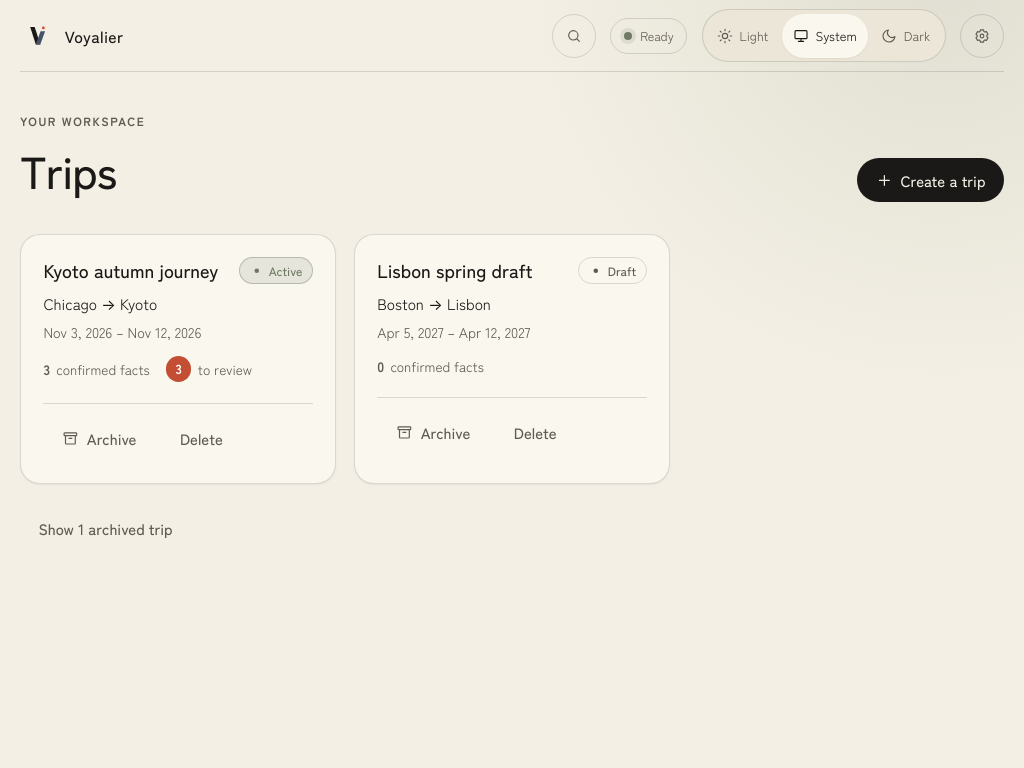
Test: concierge save recovery › retains a rejected Item draft and clears it only after a successful retry
The image size is (1024, 768).
Click the button with aria-label "Open Kyoto autumn journey".
click(131, 270)  # box [43,257,218,283]
(page scrolled)
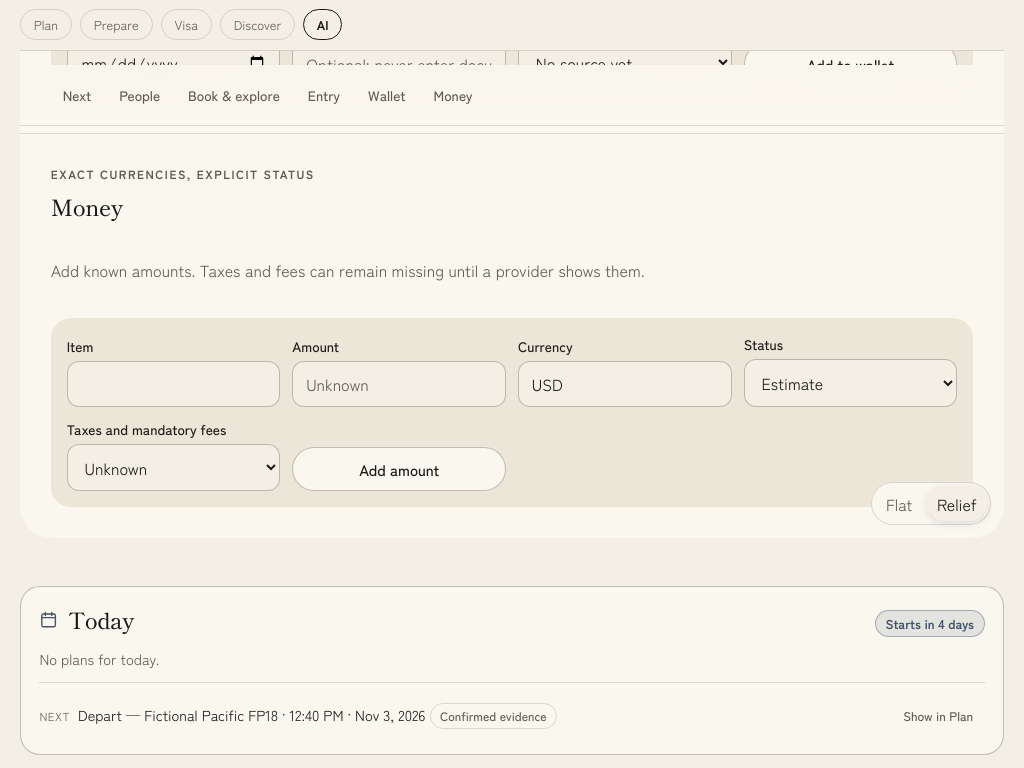
Type "Train estimate" into the field labelled "Item".
click(174, 384); type("Train estimate")  # box [67,361,280,407]
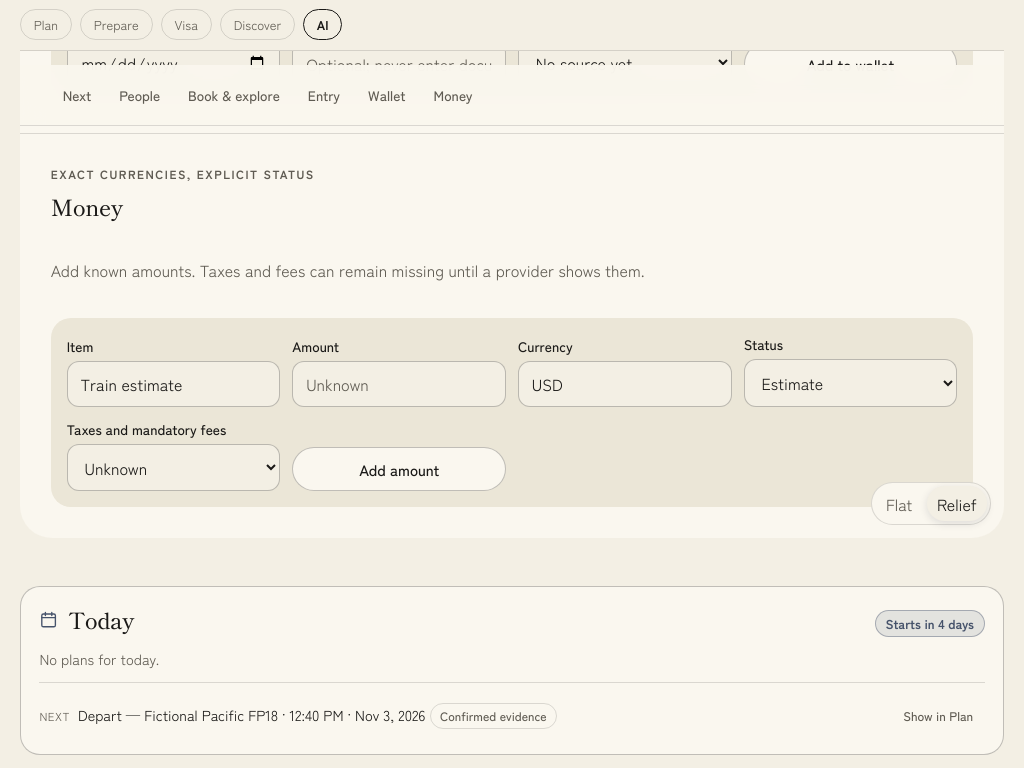
Submit the form "Item", box [51,318,973,507]
(page scrolled)
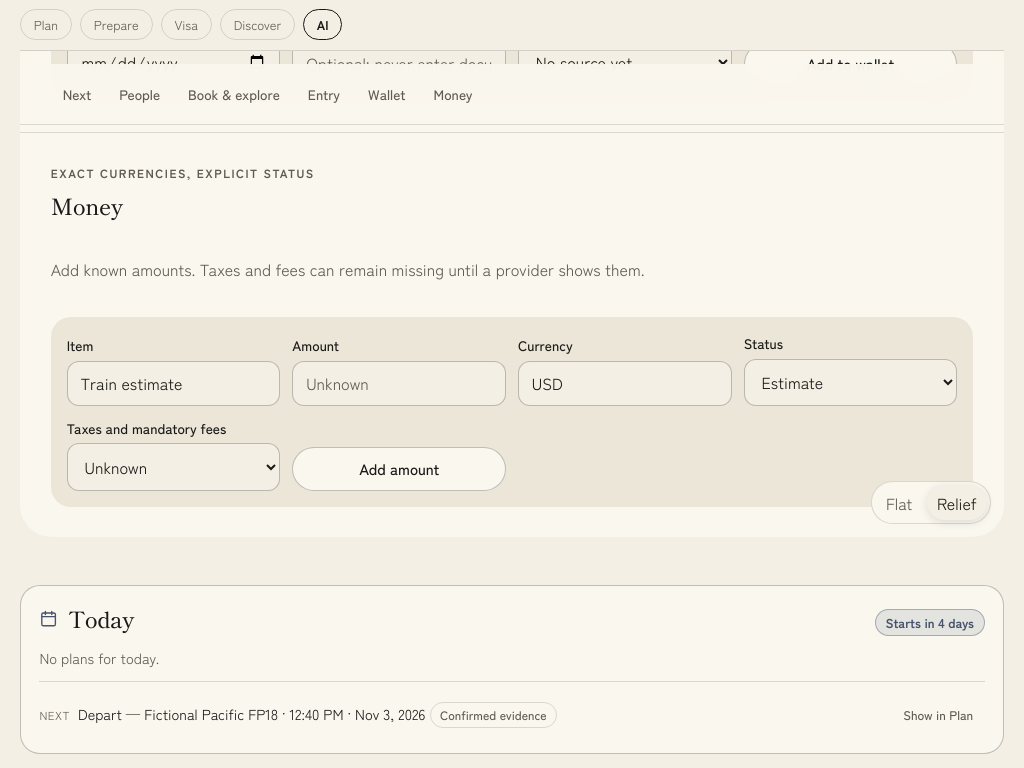
Submit the form "Item", box [51,317,973,507]
(page scrolled)
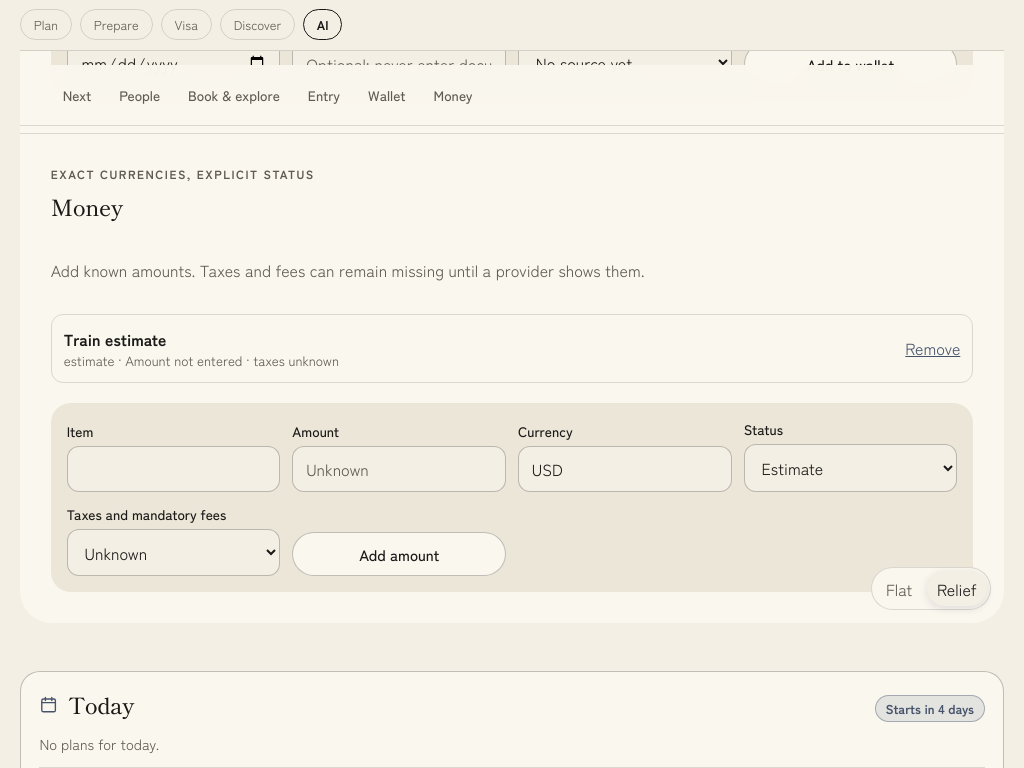
Check: the button "Add amount" is shown, box [292,532,506,576]
Check: the field labelled "Item" is empty, box [67,446,280,492]
